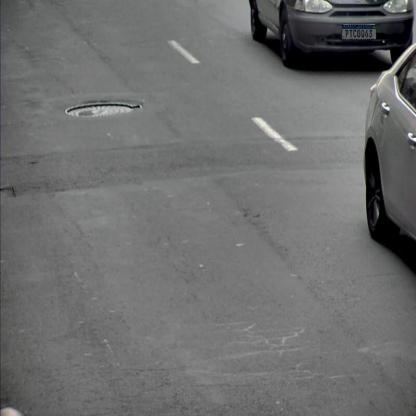PlacaM: (342, 25, 376, 39)
